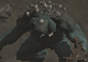{"type":"monster","name":"eldritch","status":"alive","facing":"toward"}: (1, 1, 88, 62)
